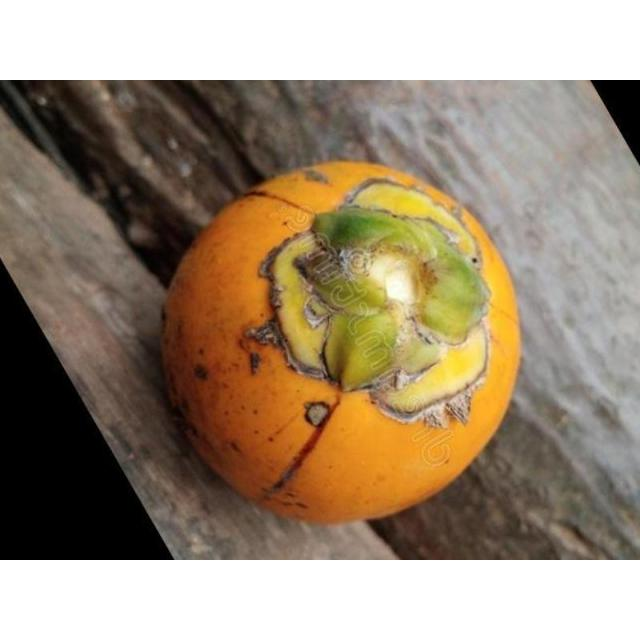good: (162, 163, 519, 526)
